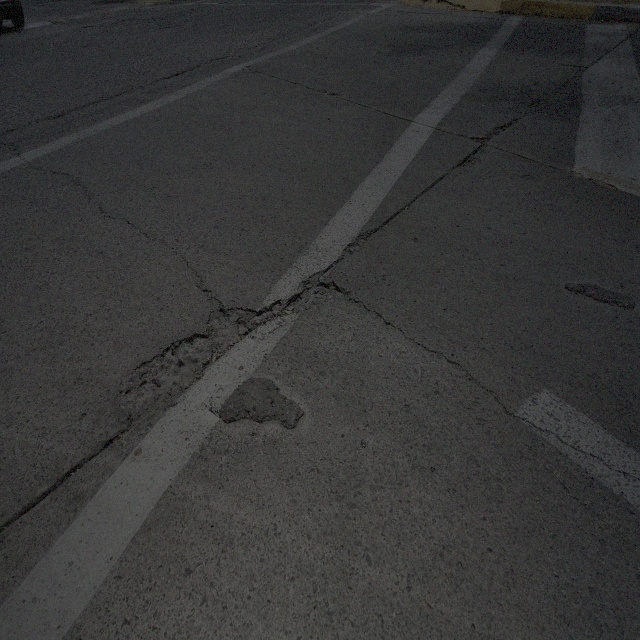pothole: (128, 290, 270, 441), (463, 119, 517, 170)
